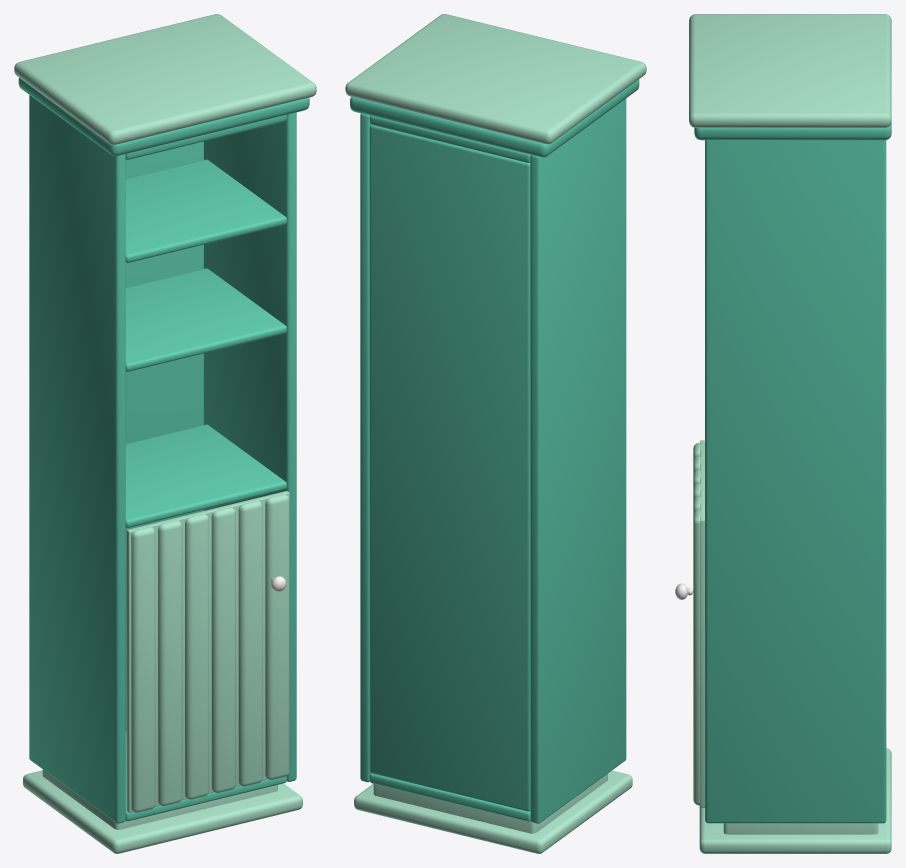
The model's file is armario_coluna_nicho_verde_agua.glb.
3 renders of one model, left to right at view 1: azimuth 30°, elevation 25°; view 2: azimuth 150°, elevation 25°; view 3: azimuth 270°, elevation 25°, orthographic. The views are drawn at different scales.
Parts seen in each view (by area): view 1: armario_coluna_nicho_verde_agua, porta_1; view 2: armario_coluna_nicho_verde_agua; view 3: armario_coluna_nicho_verde_agua, porta_1.
Part boxes in pixels (x1,y1,x2,y2): armario_coluna_nicho_verde_agua: (14,14,316,853); porta_1: (126,491,289,812); armario_coluna_nicho_verde_agua: (345,14,646,853); armario_coluna_nicho_verde_agua: (689,14,891,853); porta_1: (675,440,704,807).
Bounding box in the file's own units: 0.46 × 1.54 × 0.4058.
1 material, 1 textured.
